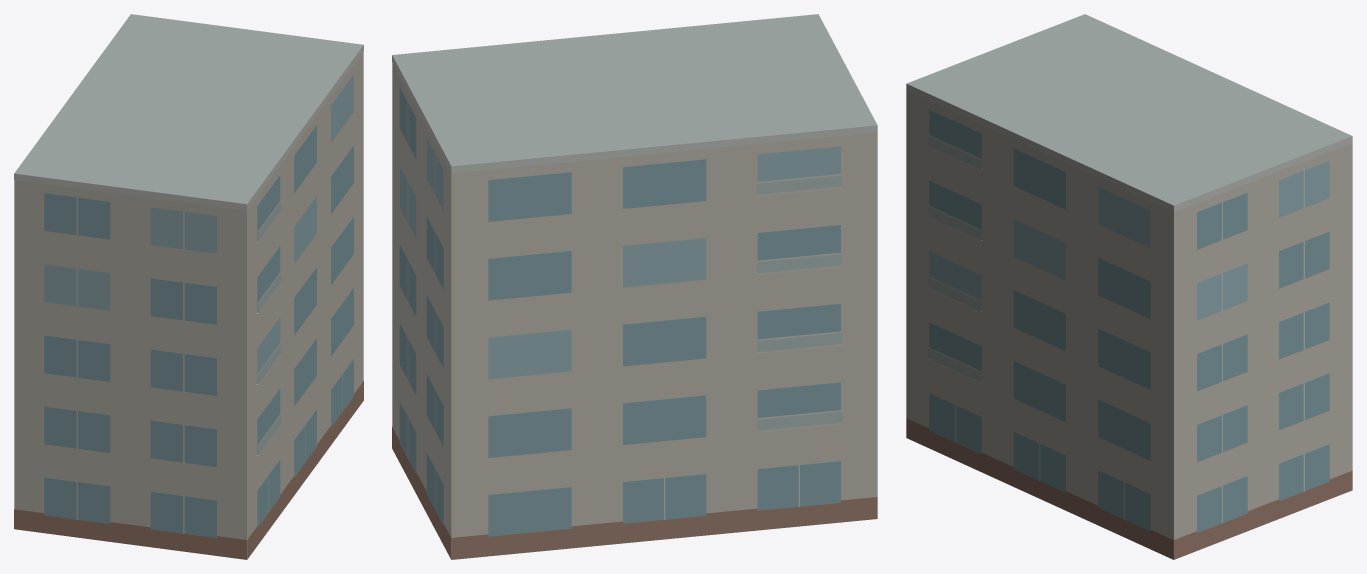
File: survey-upis-32646524.glb
3 renders of one model, left to right at view 1: azimuth 30°, elevation 25°; view 2: azimuth 150°, elevation 25°; view 3: azimuth 270°, elevation 25°, orthographic. The views are drawn at different scales.
Visible parts, largest first — view 1: survey-upis-32646524.tmp; view 2: survey-upis-32646524.tmp; view 3: survey-upis-32646524.tmp.
Part boxes in pixels (x1=…): survey-upis-32646524.tmp: x1=14, y1=14, x2=363, y2=559; survey-upis-32646524.tmp: x1=392, y1=14, x2=877, y2=559; survey-upis-32646524.tmp: x1=906, y1=14, x2=1352, y2=559.
Size of the model in its own units: 15.44 by 13.3 by 15.19.
